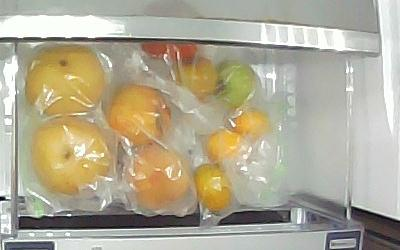peach_vinyl: (128, 143, 192, 209), (103, 82, 170, 141)
pear_vinyl: (32, 117, 112, 196), (25, 44, 105, 118)
tangerine_vinyl: (193, 163, 233, 214), (228, 107, 272, 137), (206, 130, 244, 161)
tomato_vinyl: (216, 58, 261, 109), (173, 58, 219, 102), (143, 42, 197, 65)
